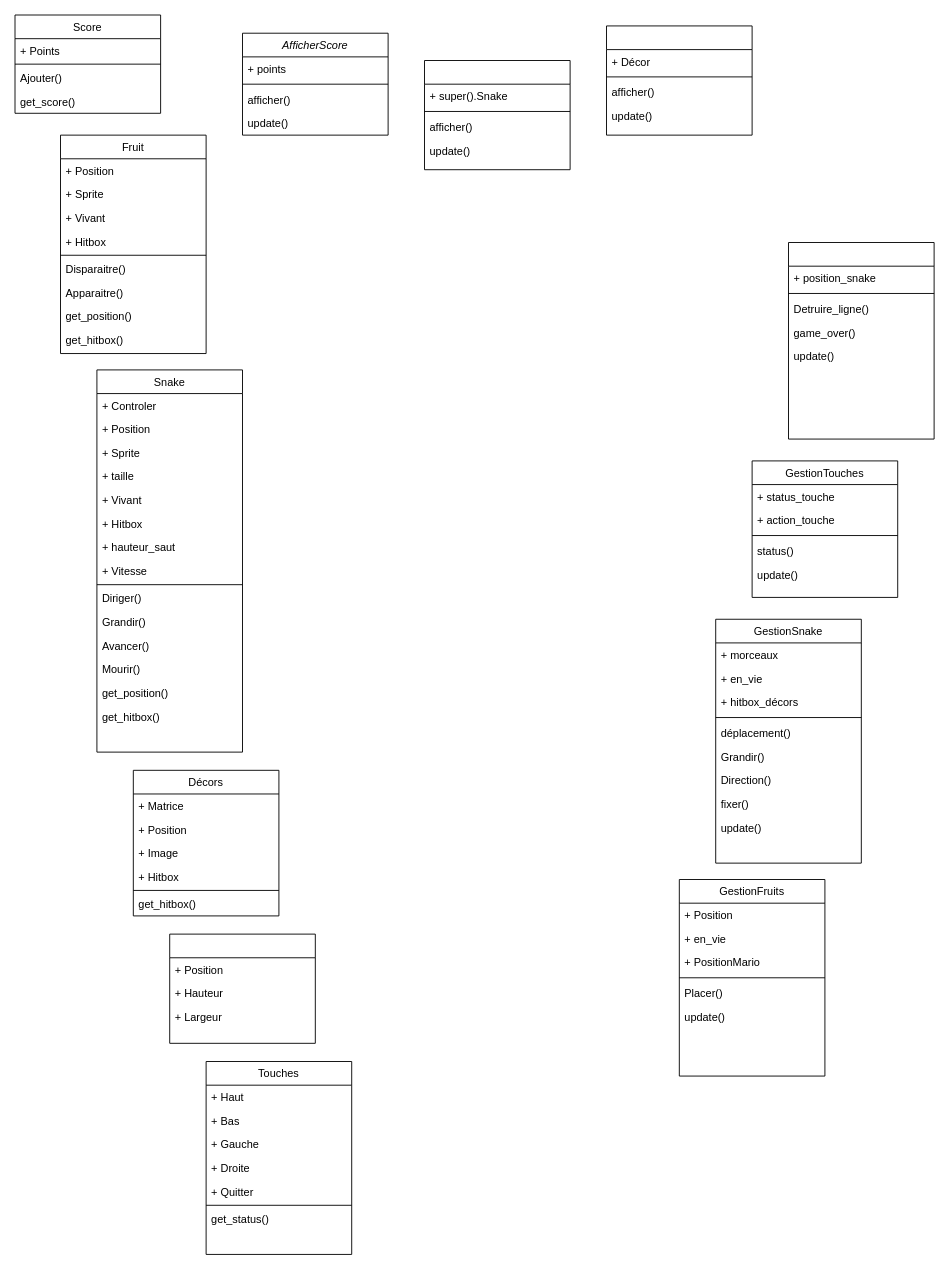
This 949x1269 diagram has some shape labels left out. The shapes that lost their labels are listed below. From the top down, each one's box as (x1, y1, x2, y2) in pixels, then its label:
(606, 25, 752, 135): AfficherTerrain
(424, 60, 570, 170): AfficherSnake
(788, 242, 934, 439): GestionTerrain
(169, 933, 315, 1043): FenetreDeJeu
